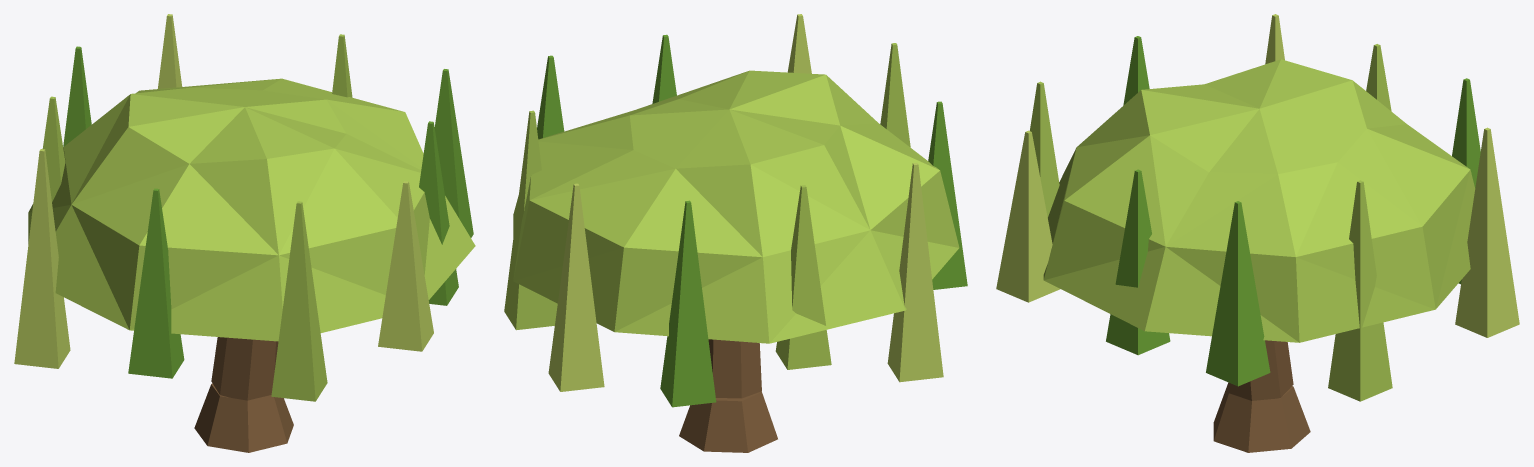
File: tree_willow_2.glb
The picture shows the model from 3 angles, left to right: view 1: azimuth 30°, elevation 25°; view 2: azimuth 150°, elevation 25°; view 3: azimuth 270°, elevation 25°; orthographic projection.
Parts seen in each view (by area): view 1: tree_willow_2; view 2: tree_willow_2; view 3: tree_willow_2.
Part boxes in pixels (<box>): tree_willow_2: <box>14,14,475,452</box>; tree_willow_2: <box>504,14,967,452</box>; tree_willow_2: <box>996,14,1519,452</box>.
Size of what is drawn, in the model's own units: 6.13 by 4.32 by 6.33.
